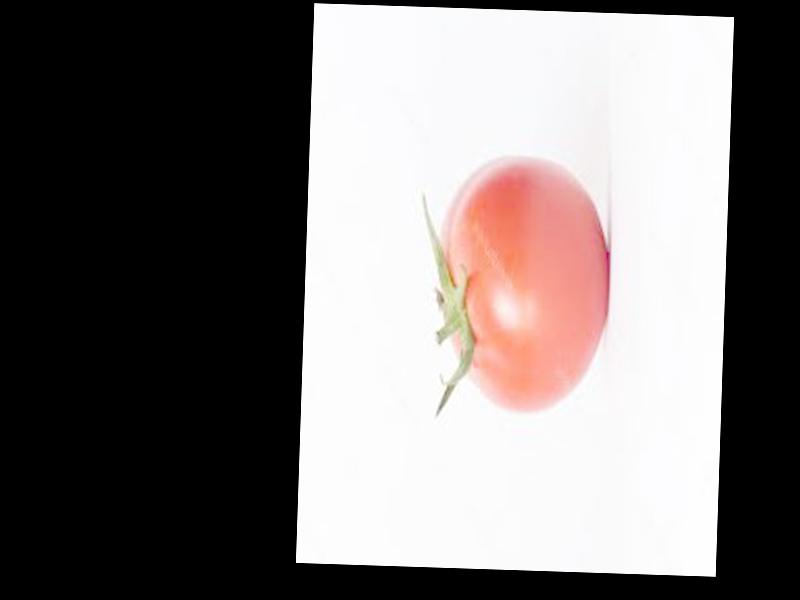Tomato: (437, 150, 614, 414)
